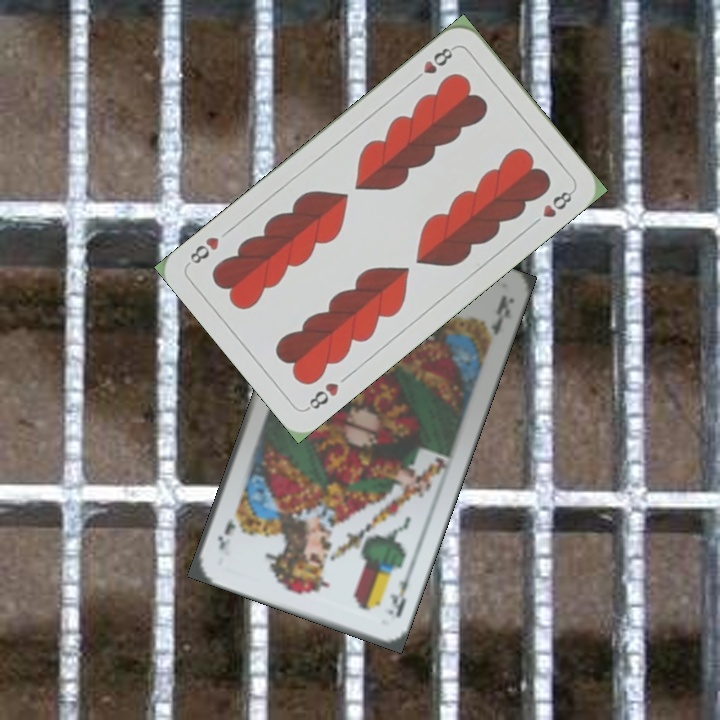EK: (382, 565, 416, 620)
H8: (408, 43, 458, 85), (302, 378, 342, 413)
